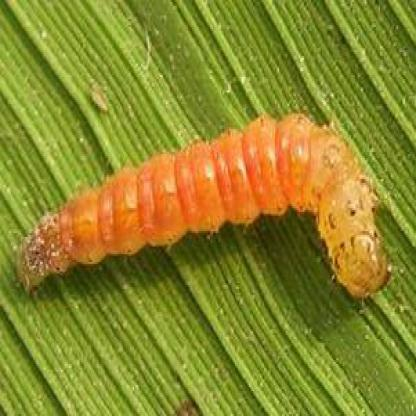leaf-folder: (19, 92, 416, 309)
